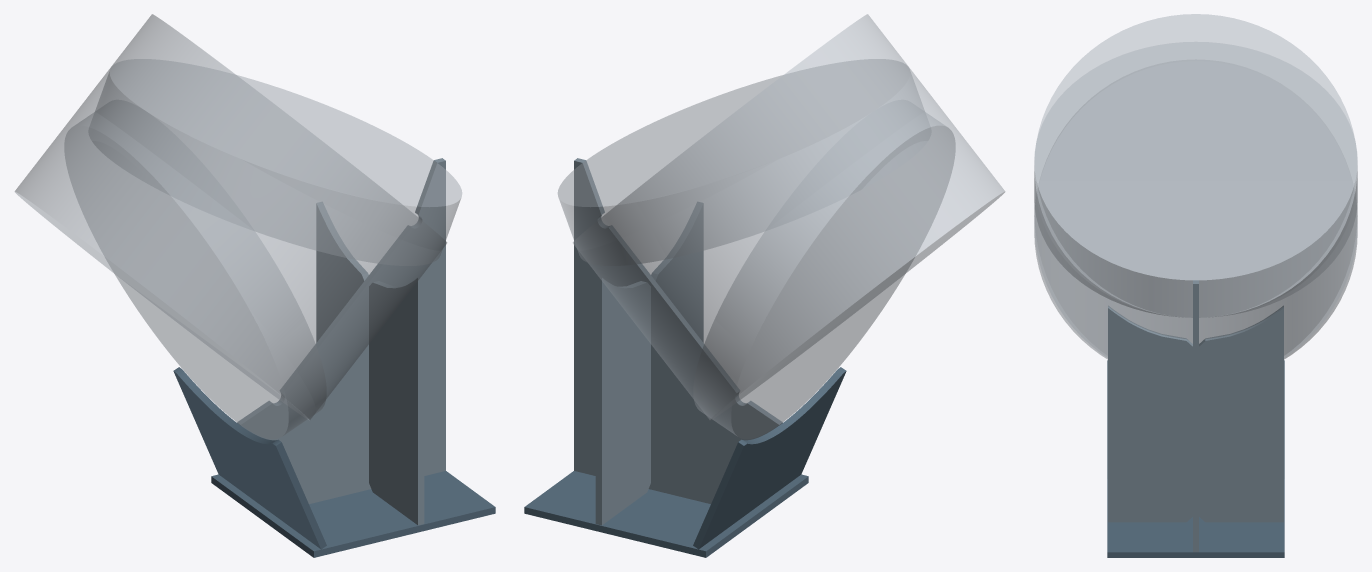
Rendered from TS-631.000-15-opora-dn820-R820.glb.
3 views of the same model, side by side, from view 1: azimuth 30°, elevation 25°; view 2: azimuth 150°, elevation 25°; view 3: azimuth 270°, elevation 25° (orthographic). The views are drawn at different scales.
Parts seen in each view (by area): view 1: truba_1, truba_0, truba_2, kosynka_1, rebro_3, osnovanie_0, sedlo_4, rebro_2; view 2: truba_1, truba_0, truba_2, kosynka_1, rebro_2, osnovanie_0, sedlo_4, rebro_3; view 3: truba_1, truba_0, rebro_2, rebro_3, truba_2, osnovanie_0, kosynka_1.
Part boxes in pixels (bbox=[...]): truba_1: bbox=[14, 14, 446, 420]; truba_0: bbox=[92, 59, 462, 265]; truba_2: bbox=[64, 112, 326, 439]; kosynka_1: bbox=[237, 158, 445, 503]; rebro_3: bbox=[369, 276, 424, 525]; osnovanie_0: bbox=[211, 471, 495, 557]; sedlo_4: bbox=[173, 367, 326, 549]; rebro_2: bbox=[316, 202, 368, 342]; truba_1: bbox=[573, 14, 1005, 420]; truba_0: bbox=[557, 59, 927, 265]; truba_2: bbox=[693, 112, 955, 439]; kosynka_1: bbox=[574, 158, 782, 503]; rebro_2: bbox=[595, 276, 650, 525]; osnovanie_0: bbox=[524, 471, 808, 557]; sedlo_4: bbox=[693, 367, 846, 549]; rebro_3: bbox=[651, 202, 703, 342]; truba_1: bbox=[1034, 14, 1357, 359]; truba_0: bbox=[1034, 42, 1357, 317]; rebro_2: bbox=[1199, 305, 1283, 522]; rebro_3: bbox=[1108, 305, 1192, 522]; truba_2: bbox=[1034, 210, 1357, 357]; osnovanie_0: bbox=[1107, 479, 1284, 557]; kosynka_1: bbox=[1193, 280, 1198, 552].
Bounding box in the file's own units: 1004 × 1216 × 820.
